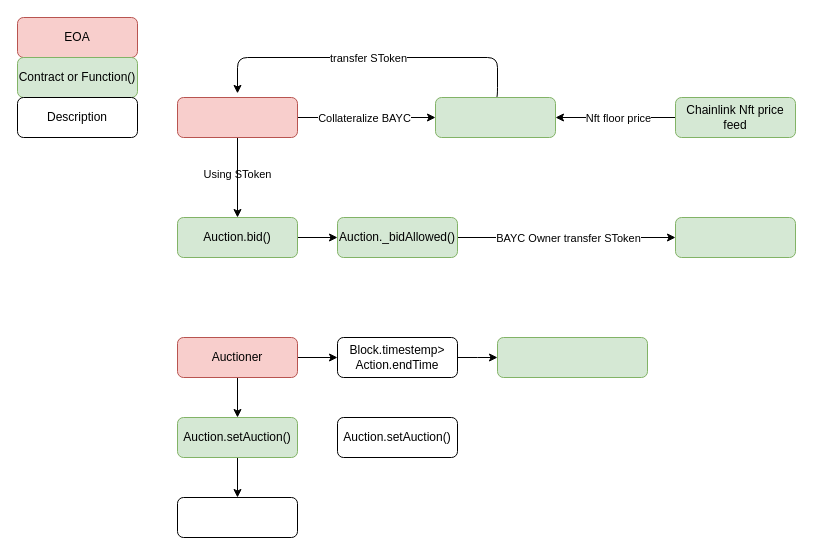
Some shapes in this 813 by 555 pixel diagram are drawn without their labels. The shapes that lost their labels are listed below. From the top down, each one's centre as x and y in pixels, then its label:
point (237, 117): BAYC Owner
point (495, 117): Collateral Pool
point (735, 237): DutchAuction
point (572, 357): Auction.claimAuctionItem()
point (237, 517): Dutch Action in process
